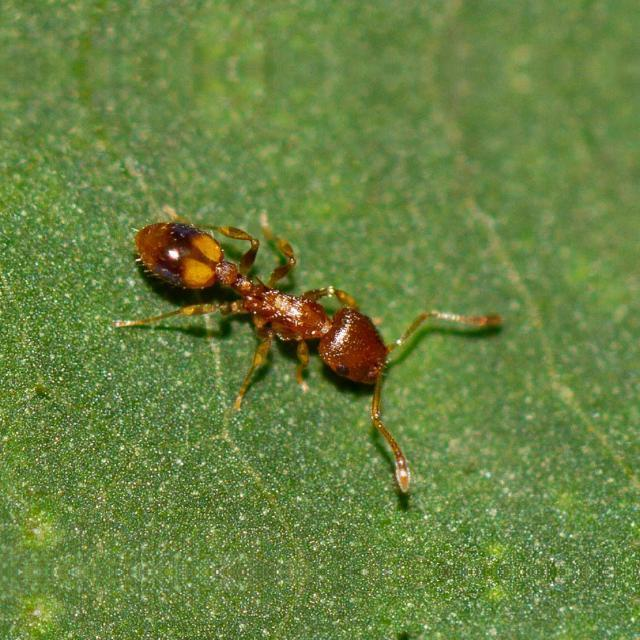Temnothorax: (127, 168, 429, 412)
